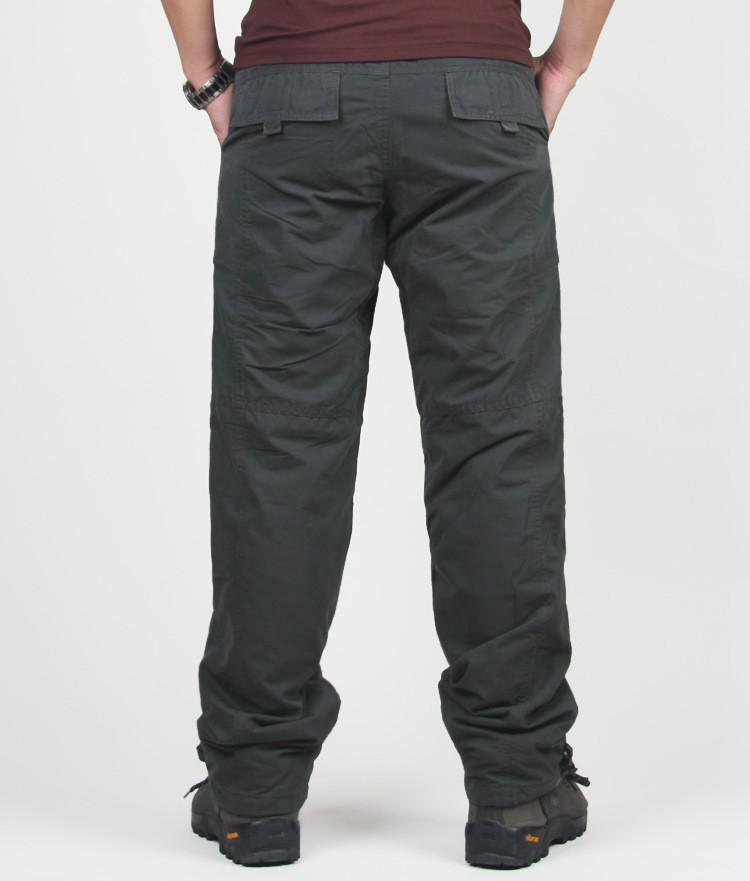pants: (184, 68, 564, 793)
